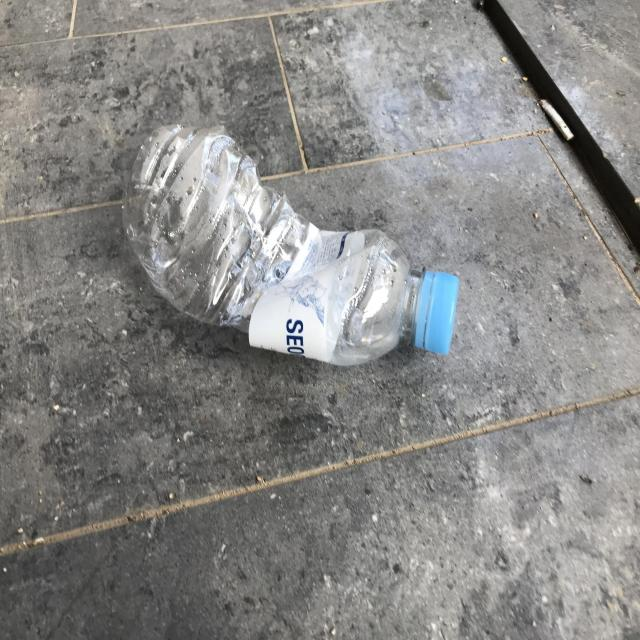plastic: (123, 124, 459, 366)
